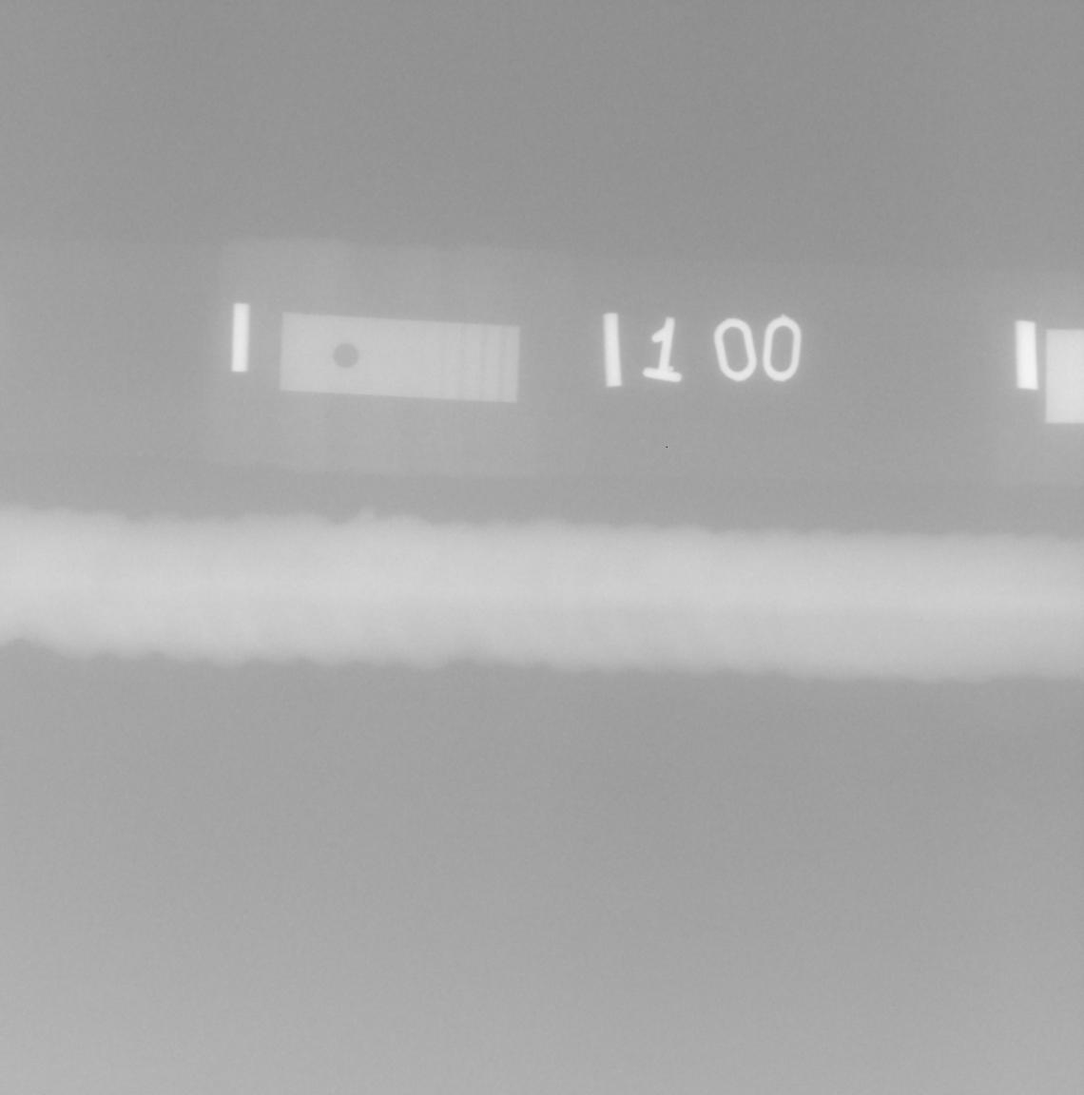Reference Standard 1: (279, 313, 519, 403)
